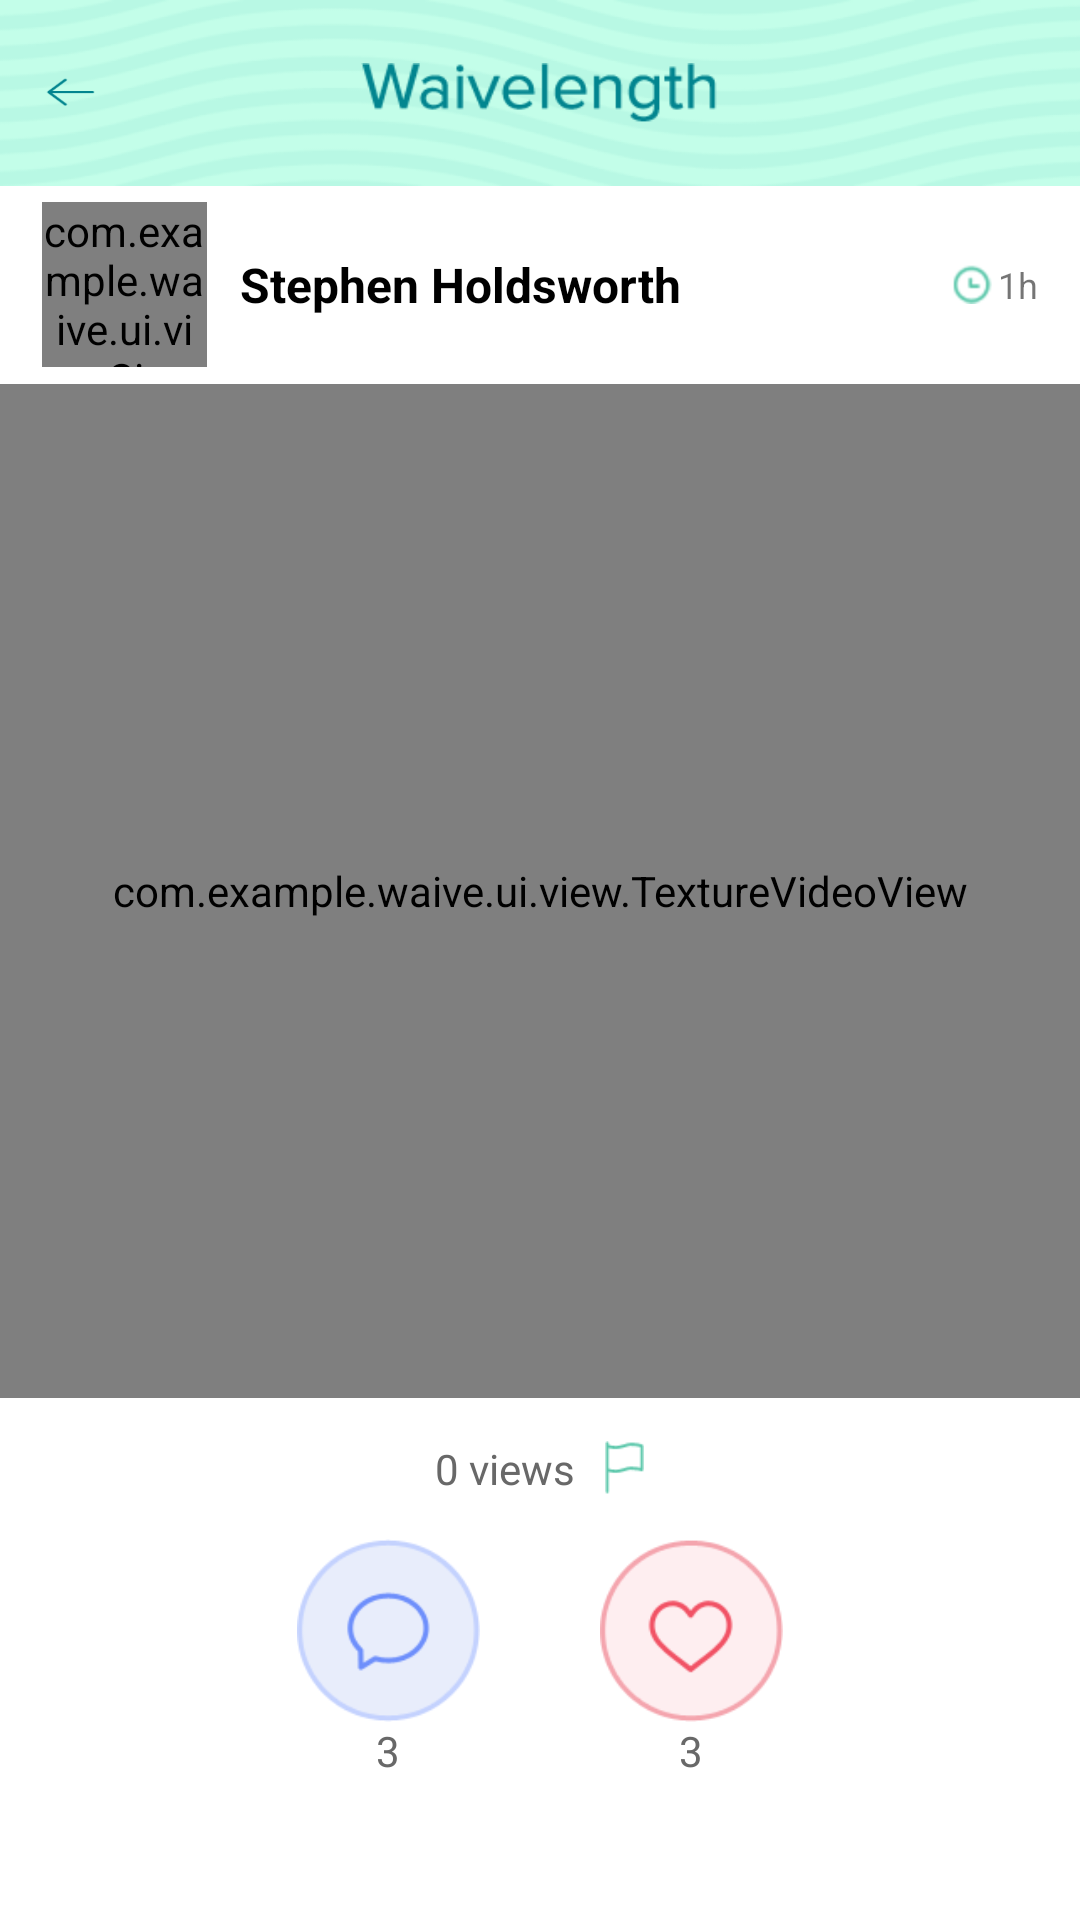

Screen size 1080px×1920px. Icon name, then its center in pixels as (x,y):
clock: (972,285)
flag: (624,1467)
lft arrow: (70,92)
